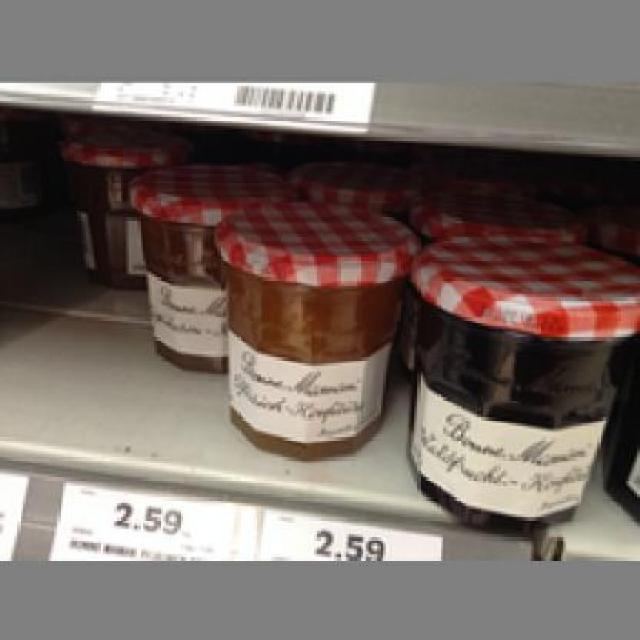Jam: (408, 228, 638, 538), (214, 197, 417, 457), (128, 156, 268, 370)
